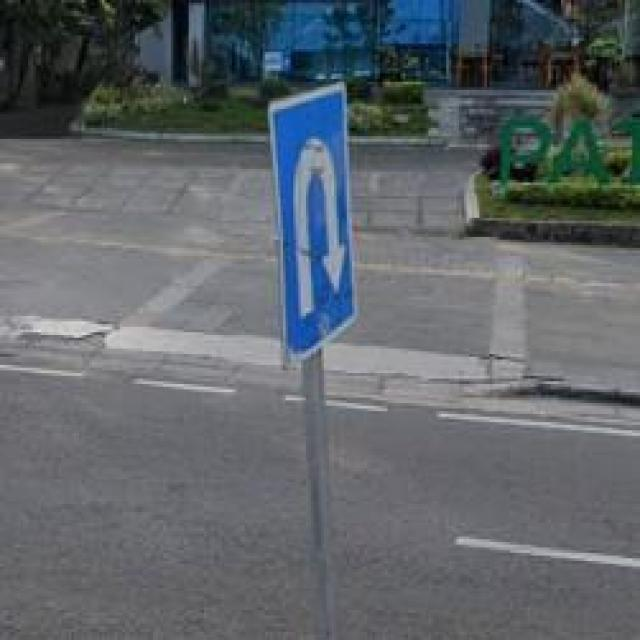traffic sign: (268, 85, 354, 360)
